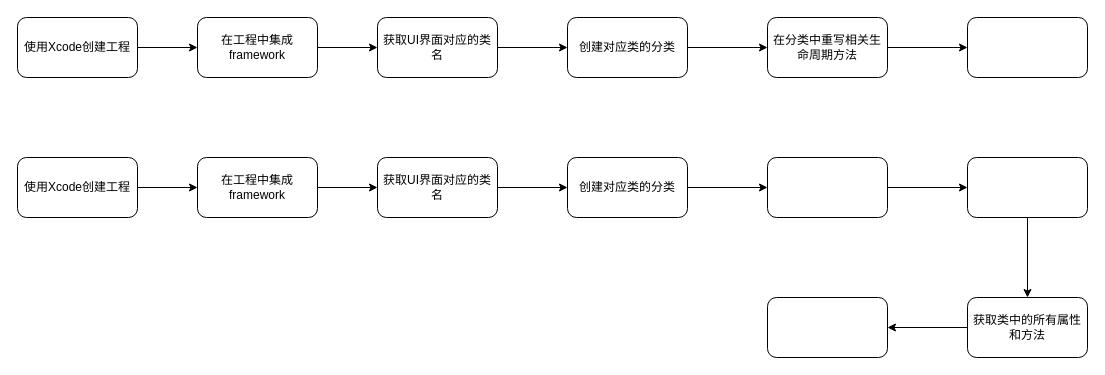
The diagram is 1105 pixels wide and 375 high, and some of its shapes have lost their labels. Each missing label, with the centre of its shape:
"在分类中交换相关生命周期方法" belongs at point (827, 187).
"在生命周期方法中移除或隐藏旧的UI，并重新绘制新UI" belongs at point (1027, 187).
"在生命周期方法中重新绘制UI" belongs at point (1027, 47).
"根据旧的逻辑关系将新UI与旧UI的逻辑结合在一起" belongs at point (827, 327).
